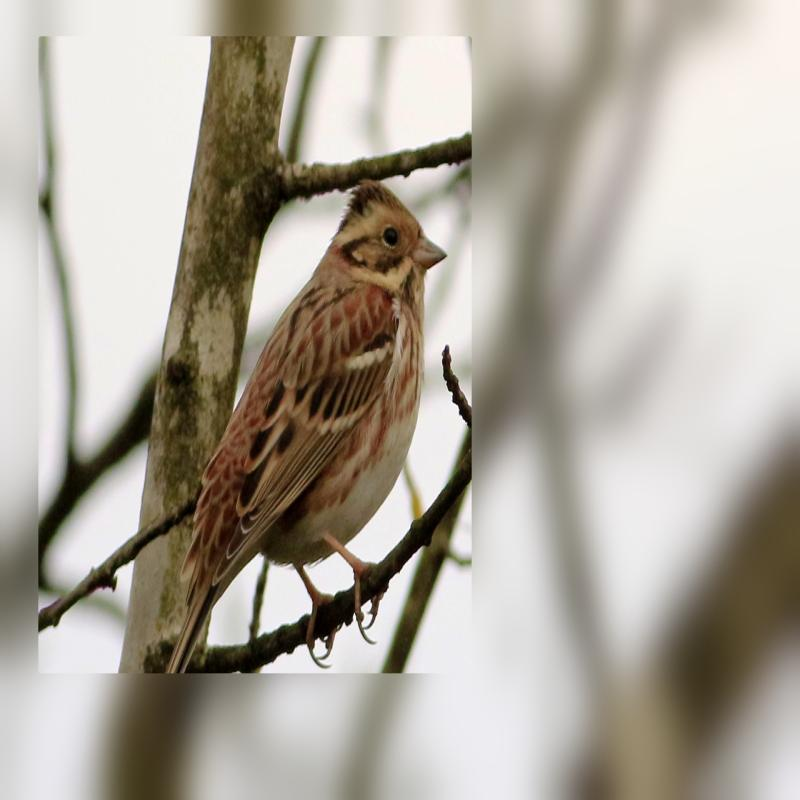rustic bunting: (170, 165, 447, 676)
